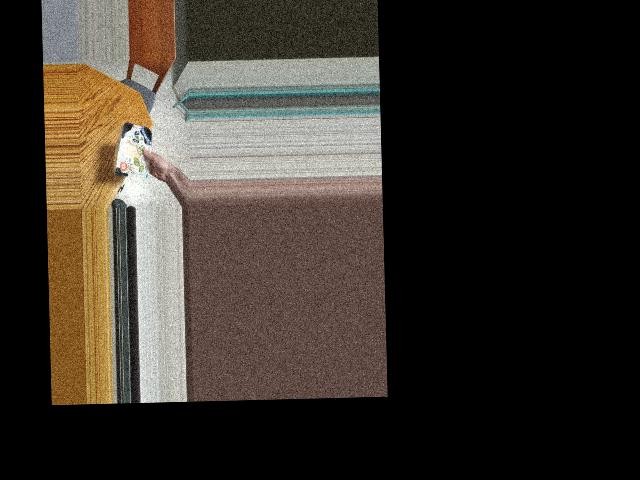cheese: (113, 128, 158, 168)
